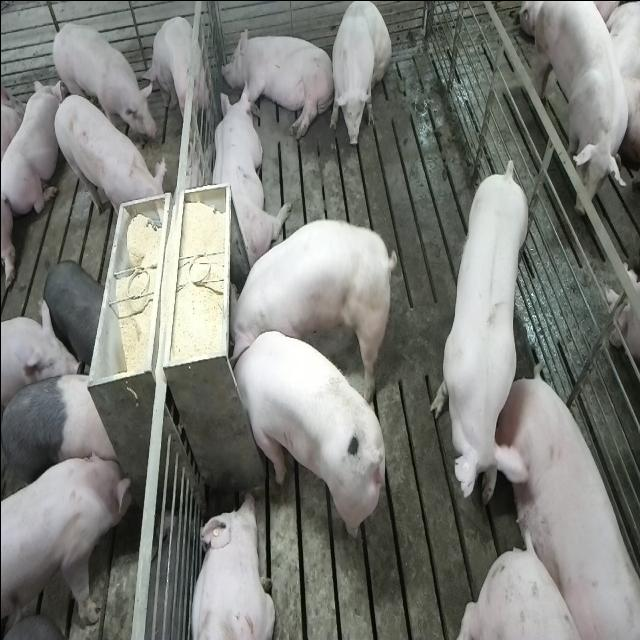Feeding: (222, 328, 382, 540), (219, 214, 391, 366)
Lateral_lying: (221, 23, 334, 141)
Sitting: (328, 0, 390, 148)
Standing: (429, 152, 531, 512), (525, 0, 639, 225), (2, 448, 134, 640), (51, 90, 166, 227), (1, 372, 123, 493), (50, 18, 156, 146), (143, 13, 205, 133), (42, 258, 106, 364)
Sternal_lying: (208, 81, 288, 271), (186, 491, 274, 640), (0, 70, 60, 215)
